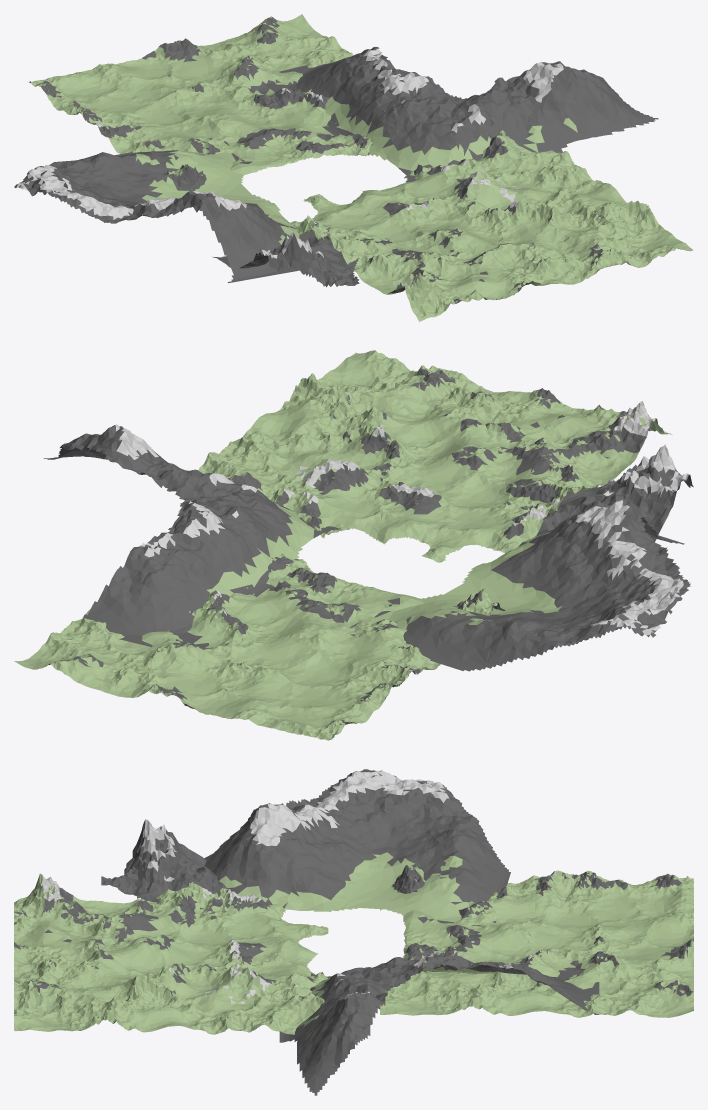
The model's file is landscape1.fbx.
The picture shows the model from 3 angles, top to bottom: view 1: azimuth 30°, elevation 25°; view 2: azimuth 150°, elevation 25°; view 3: azimuth 270°, elevation 25°; orthographic projection. The views are drawn at different scales.
Visible parts, largest first — view 1: Landscape.004; view 2: Landscape.004; view 3: Landscape.004.
Part boxes in pixels (x1=…): Landscape.004: x1=14, y1=14, x2=693, y2=321; Landscape.004: x1=14, y1=350, x2=693, y2=740; Landscape.004: x1=14, y1=769, x2=693, y2=1095.
Size of the model in its own units: 65867 by 7261 by 66909.
